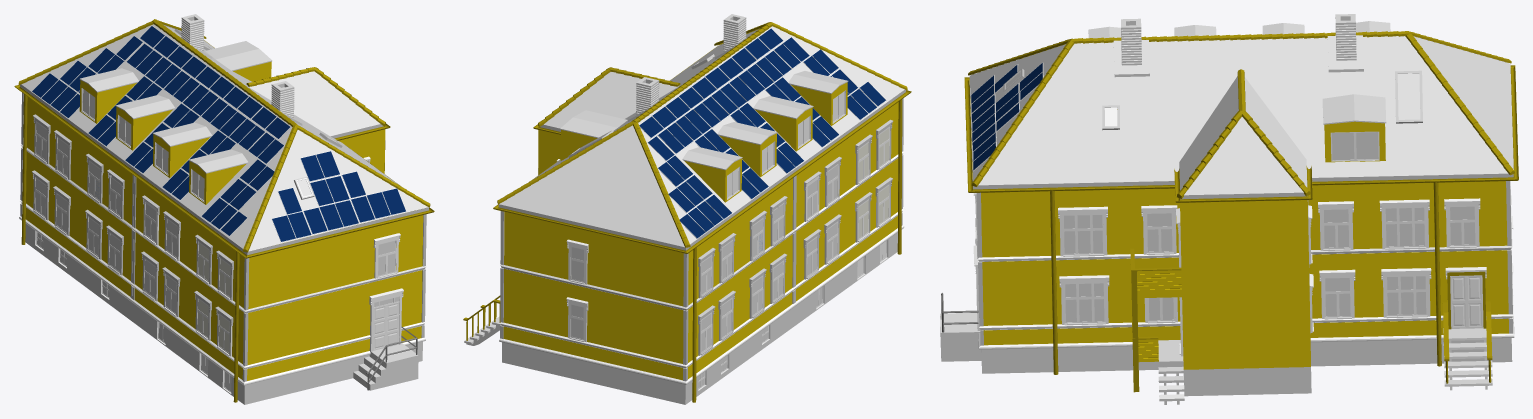
The model's file is house_panel_2_1001.glb.
The picture shows the model from 3 angles, left to right: view 1: azimuth 30°, elevation 25°; view 2: azimuth 150°, elevation 25°; view 3: azimuth 270°, elevation 25°; orthographic projection. The views are drawn at different scales.
Parts seen in each view (by area): view 1: SketchUp.874, SketchUp.871, SketchUp.865, SketchUp.002, SketchUp.511, SketchUp.484, SketchUp.001, SketchUp.872, SketchUp.015, SketchUp.057, SketchUp.052, SketchUp.734 (+33 smaller); view 2: SketchUp.874, SketchUp.871, SketchUp.002, SketchUp.865, SketchUp.511, SketchUp.484, SketchUp.001, SketchUp.872, SketchUp.057, SketchUp.052, SketchUp.734, SketchUp.519 (+14 smaller); view 3: SketchUp.871, SketchUp.874, SketchUp.868, SketchUp.865, SketchUp.002, SketchUp, SketchUp.511, SketchUp.872, SketchUp.734, SketchUp.057, SketchUp.484, SketchUp.019 (+30 smaller).
Part boxes in pixels (bbox=[...]): SketchUp.874: bbox=[25, 97, 423, 380]; SketchUp.871: bbox=[21, 24, 428, 251]; SketchUp.865: bbox=[249, 71, 380, 136]; SketchUp.002: bbox=[25, 224, 422, 404]; SketchUp.511: bbox=[14, 40, 434, 258]; SketchUp.484: bbox=[19, 216, 425, 385]; SketchUp.001: bbox=[109, 286, 199, 370]; SketchUp.872: bbox=[20, 84, 428, 255]; SketchUp.015: bbox=[353, 351, 418, 390]; SketchUp.057: bbox=[20, 200, 425, 369]; SketchUp.052: bbox=[21, 144, 426, 313]; SketchUp.734: bbox=[205, 41, 272, 71]; SketchUp.874: bbox=[503, 102, 898, 380]; SketchUp.871: bbox=[499, 26, 904, 247]; SketchUp.002: bbox=[502, 232, 897, 404]; SketchUp.865: bbox=[544, 72, 678, 128]; SketchUp.511: bbox=[493, 48, 911, 253]; SketchUp.484: bbox=[499, 225, 904, 384]; SketchUp.001: bbox=[770, 262, 857, 343]; SketchUp.872: bbox=[498, 89, 905, 250]; SketchUp.057: bbox=[499, 209, 903, 368]; SketchUp.052: bbox=[500, 153, 902, 310]; SketchUp.734: bbox=[560, 110, 627, 138]; SketchUp.519: bbox=[755, 107, 812, 151]; SketchUp.871: bbox=[969, 36, 1513, 185]; SketchUp.874: bbox=[981, 109, 1508, 345]; SketchUp.868: bbox=[1180, 200, 1310, 369]; SketchUp.865: bbox=[1179, 76, 1307, 195]; SketchUp.002: bbox=[981, 338, 1512, 373]; SketchUp: bbox=[1183, 366, 1311, 396]; SketchUp.511: bbox=[964, 65, 1518, 192]; SketchUp.872: bbox=[969, 77, 1513, 189]; SketchUp.734: bbox=[1322, 94, 1386, 124]; SketchUp.057: bbox=[975, 218, 1513, 330]; SketchUp.484: bbox=[975, 240, 1514, 349]; SketchUp.019: bbox=[1137, 270, 1181, 298].
Bounding box in the file's own units: 13.74 × 13.47 × 22.92.
